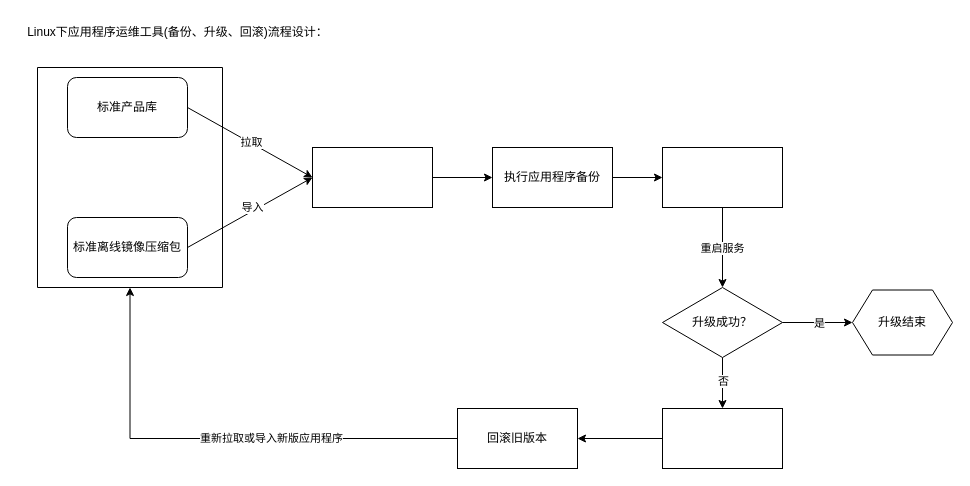
Image size: 970x486. Some labels were removed from this diagram. Here are the shapes that lost their labels. From the top down, the centre of each, then its label:
At (x=372, y=177): "应用服务器工作节点".
At (x=722, y=177): "执行应用程序升级".
At (x=722, y=438): "寻找升级失败原因".
